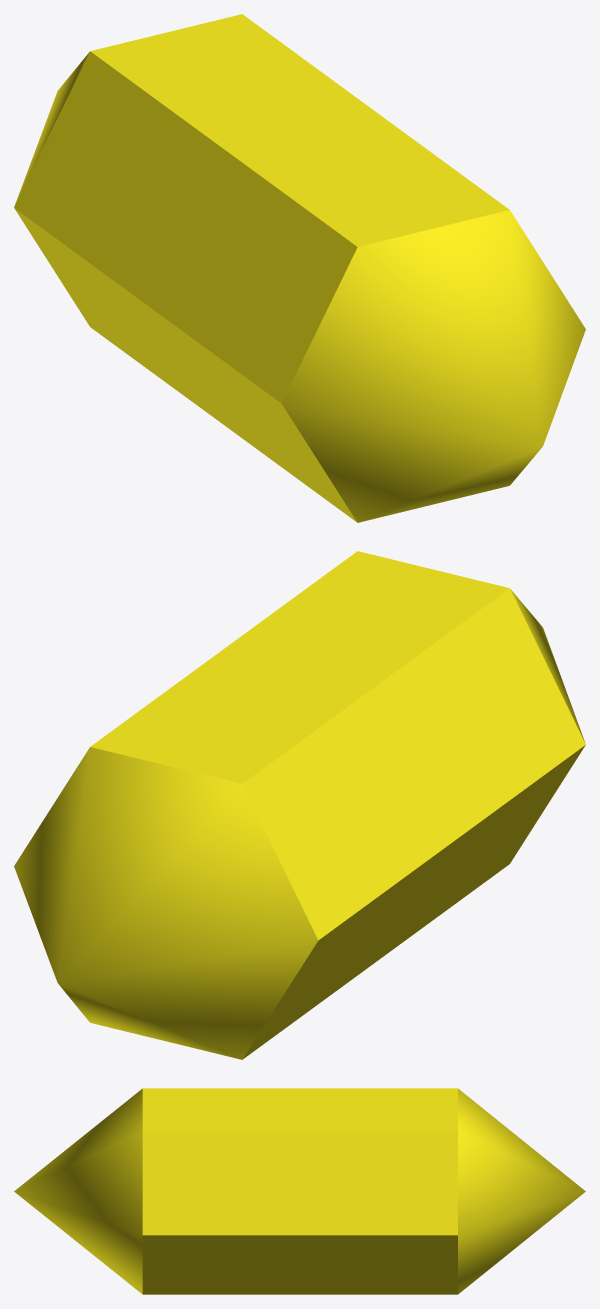
File: bullet.fbx
3 views of the same model, one above another, from view 1: azimuth 30°, elevation 25°; view 2: azimuth 150°, elevation 25°; view 3: azimuth 270°, elevation 25° (orthographic). The views are drawn at different scales.
Parts seen in each view (by area): view 1: Bullet; view 2: Bullet; view 3: Bullet.
Part boxes in pixels (<box>): Bullet: <box>14,14,585,522</box>; Bullet: <box>14,551,585,1059</box>; Bullet: <box>14,1088,585,1294</box>.
Size of the model in its own units: 0.9389 by 0.8131 by 2.59.
